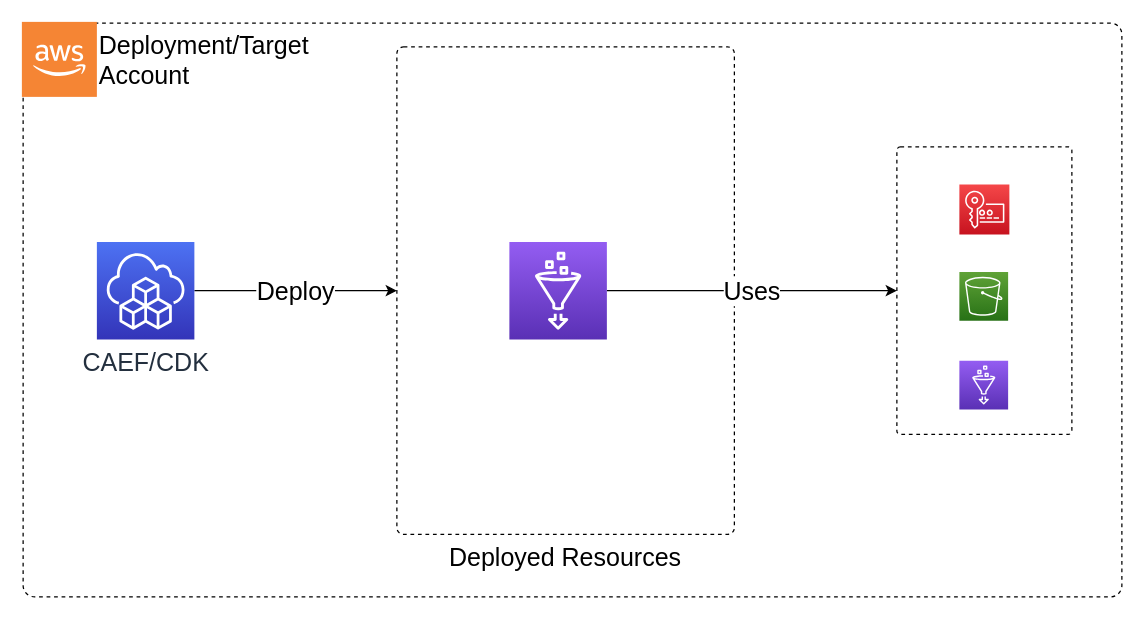
This 1144x619 diagram has some shape labels left out. The shapes that lost their labels are listed below. From the top down, each one's box as (x1, y1, x2, y2) in pixels, then its label:
(508, 241, 607, 339): Glue Crawlers(s)
(896, 146, 1072, 434): DataOps Project Resources
